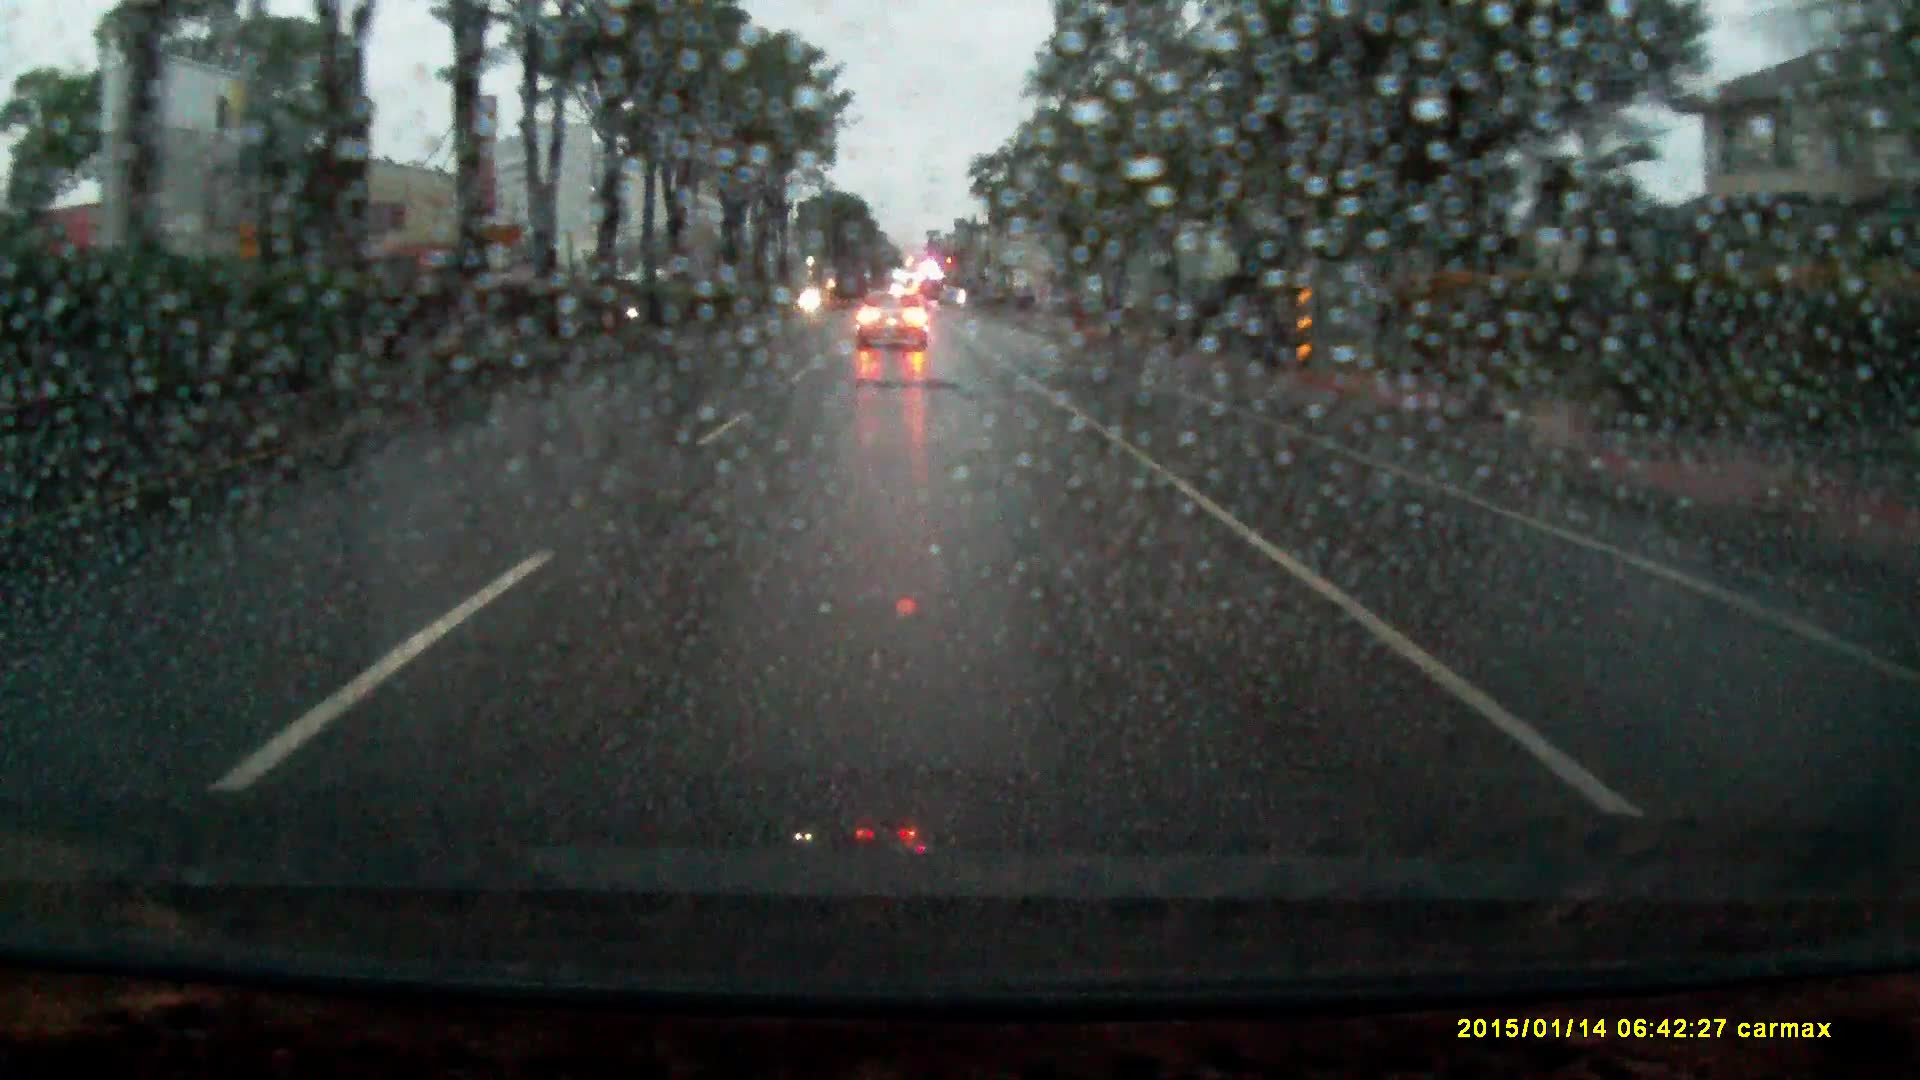vehicle: (856, 293, 928, 352)
